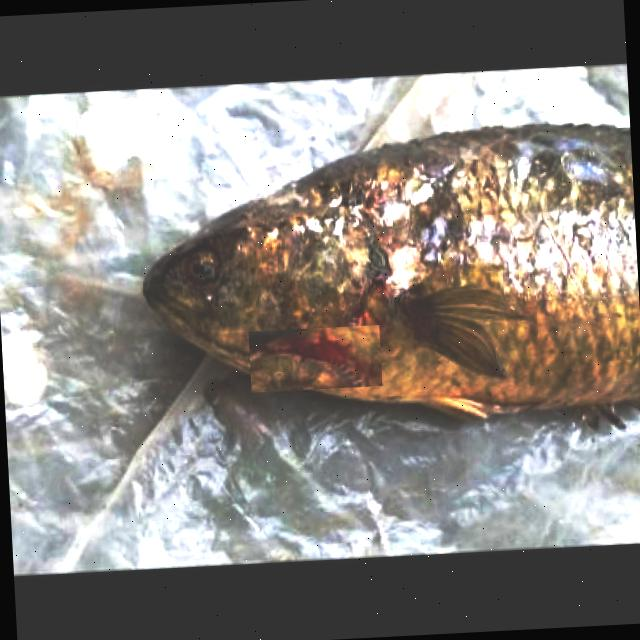Aeromonas Septicemia: (138, 122, 640, 431)
